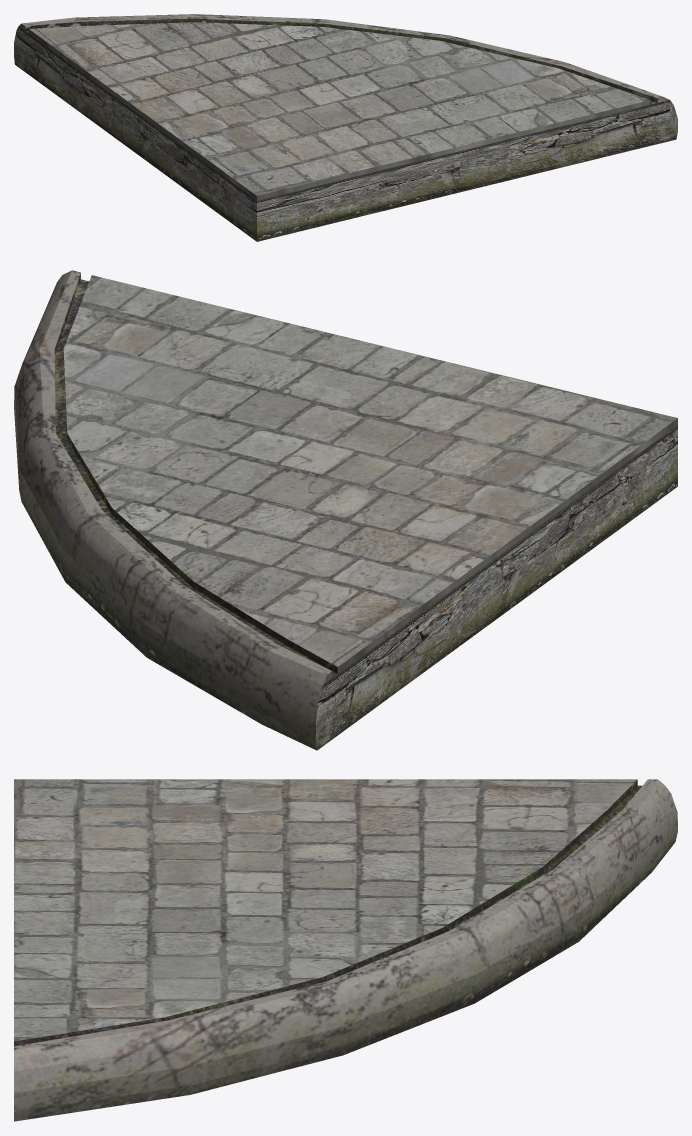
Rendered from PavementPieces06.fbx.
3 views of the same model, one above another, from view 1: azimuth 30°, elevation 25°; view 2: azimuth 150°, elevation 25°; view 3: azimuth 270°, elevation 25° (orthographic). The views are drawn at different scales.
Parts seen in each view (by area): view 1: PavementPieces06; view 2: PavementPieces06; view 3: PavementPieces06.
Boxes of the visible parts, box(x1,y1,x2,y2) form: PavementPieces06: box(14, 14, 677, 241); PavementPieces06: box(14, 270, 677, 750); PavementPieces06: box(14, 779, 677, 1121).
Size of the model in its own units: 130 by 13.59 by 130.
